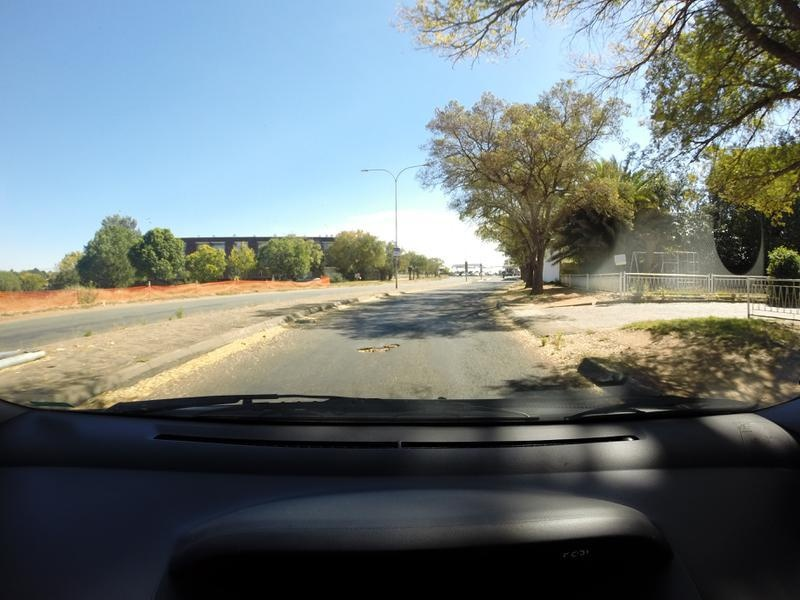pothole: (345, 339, 400, 359)
